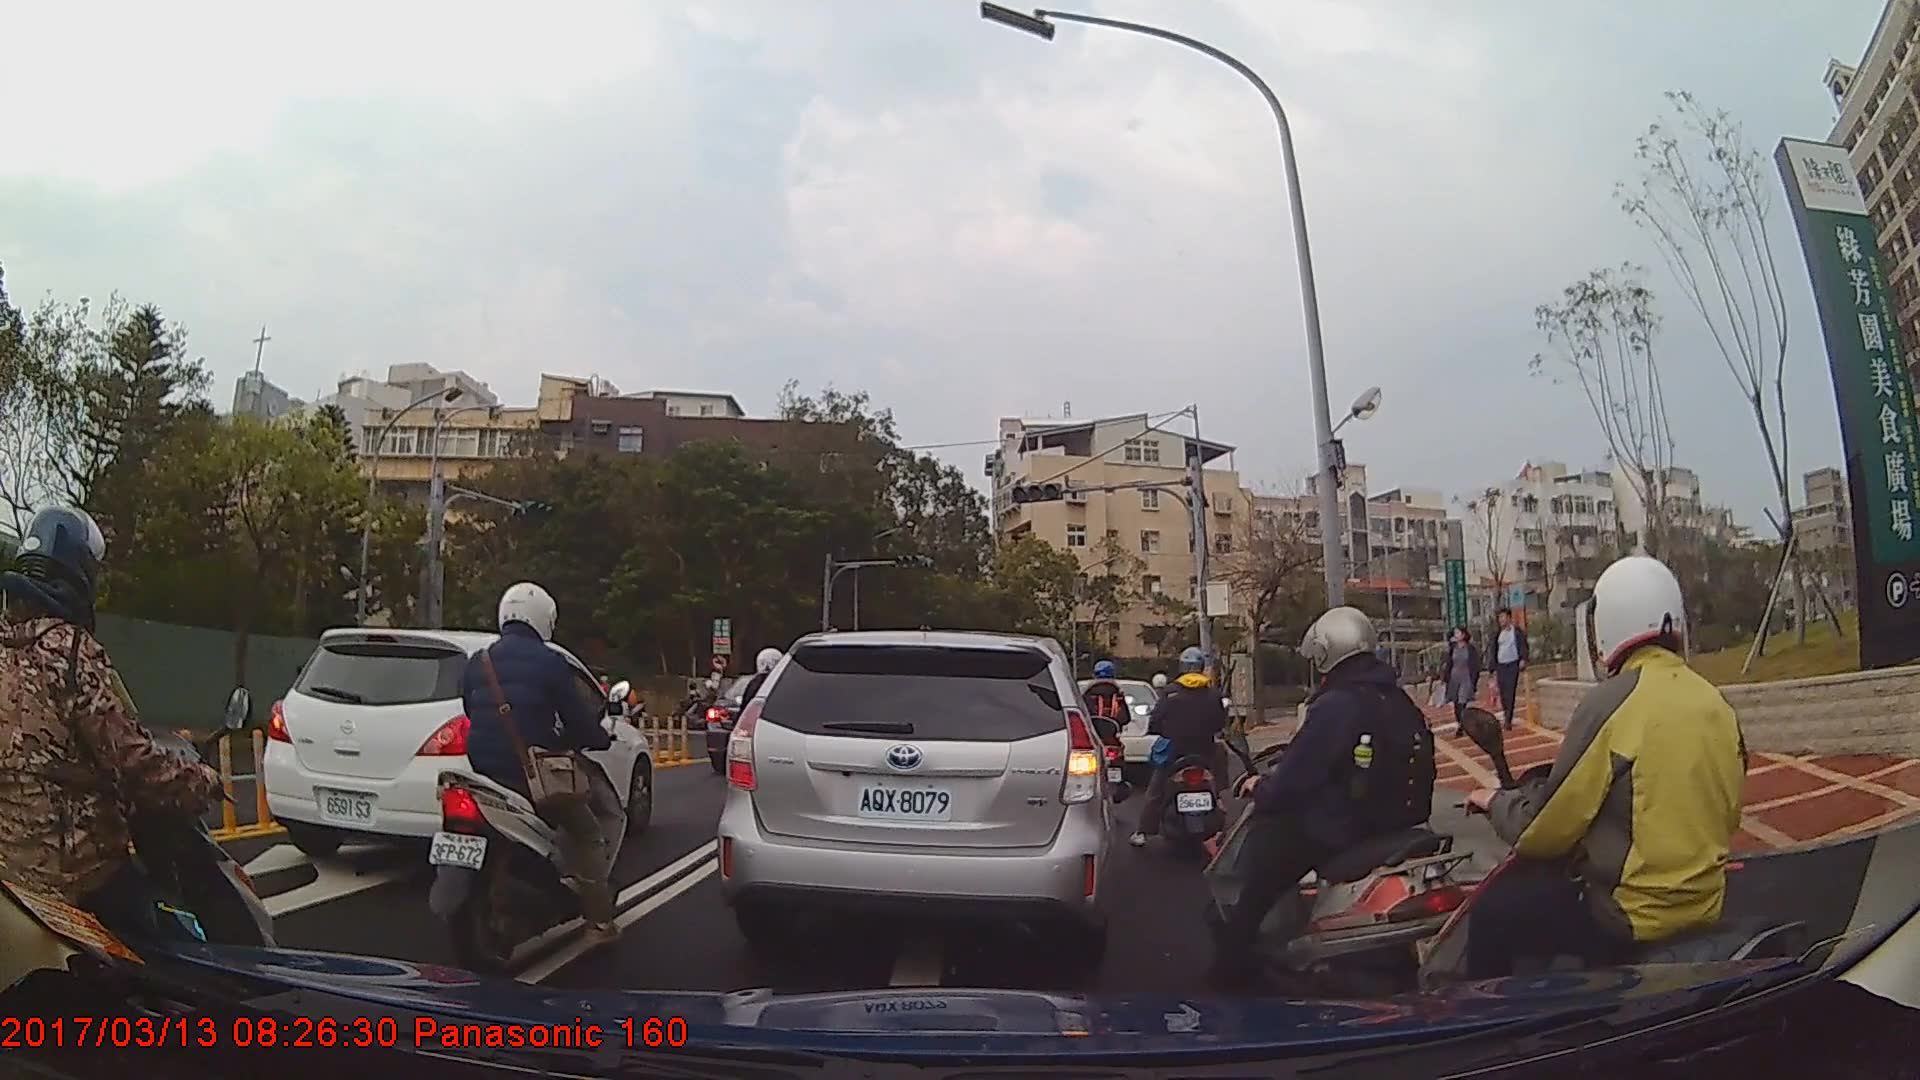pedestrian: (1487, 607, 1535, 738), (1445, 626, 1488, 738)
rider: (1408, 551, 1839, 1080), (1, 506, 284, 1033), (1197, 606, 1482, 1013), (434, 582, 640, 968), (1137, 643, 1235, 866), (731, 641, 811, 856), (1066, 658, 1136, 813)
vehicle: (711, 626, 1117, 963), (262, 626, 650, 868), (1061, 677, 1175, 788), (706, 673, 822, 777)
